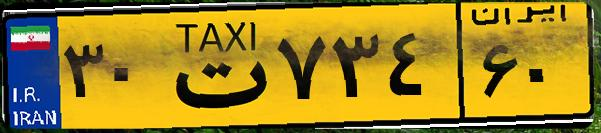0: (525, 38, 570, 115), (110, 28, 158, 98)
3: (330, 28, 385, 110), (57, 26, 110, 100)
4: (385, 28, 445, 110)
6: (475, 38, 525, 113)
7: (270, 28, 330, 110)
ت: (158, 12, 270, 120)
